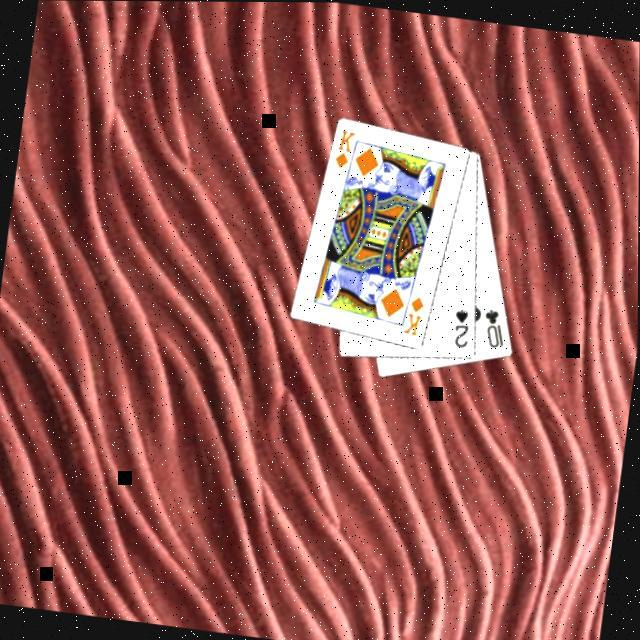10C: (479, 302, 512, 350)
2S: (450, 304, 476, 349)
KD: (401, 290, 428, 338), (332, 124, 358, 170)
